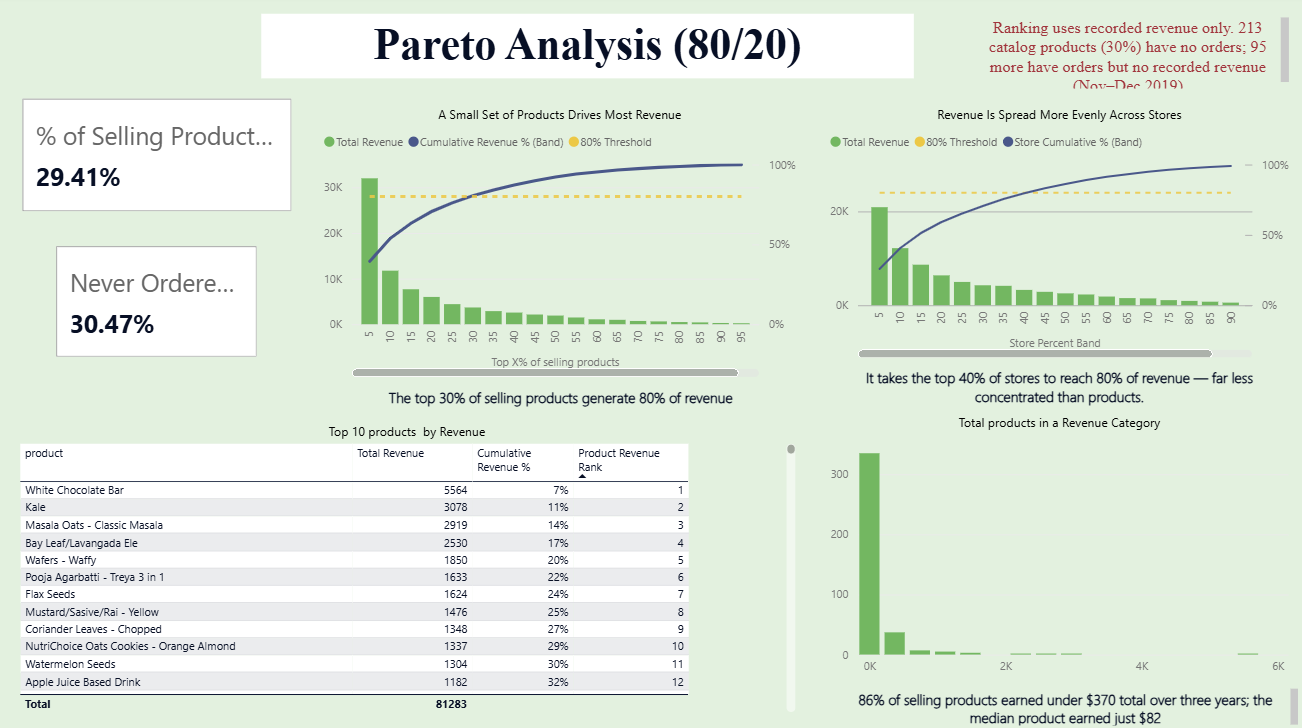

The dashboard page shown, as its layout file describes it:
{"tool":"powerbi","page":{"name":"Pareto(80/20)","canvas":[1280,720],"ordinal":4},"visuals":[{"type":"textbox","box":[260.7,17.8,638.1,63.1],"z":0},{"type":"lineClusteredColumnComboChart","title":"A Small Set of Products Drives Most Revenue","fields":{"Y":["Sales.Total Revenue"],"Y2":["Sales.Cumulative Revenue % (Band)","Products.80% Threshold"],"Category":["Products.Product Percent Band"]},"box":[316.8,109,471.7,269.5],"z":1000},{"type":"cardVisual","fields":{"Data":["Sales.% of Products to 80%"]},"box":[21.5,96.1,273.8,120.4],"z":2000},{"type":"tableEx","title":"Top 10 products  by Revenue","fields":{"Values":["Products.product","Sales.Total Revenue","Sales.Cumulative Revenue %","Products.Product Revenue Rank"]},"box":[18.8,418.1,769.6,287.9],"z":3000},{"type":"lineStackedColumnComboChart","title":"Revenue Is Spread More Evenly Across Stores","fields":{"Y":["Sales.Total Revenue"],"Y2":["Products.80% Threshold","Sales.Store Cumulative % (Band)"],"Category":["Stores.Store Percent Band"]},"box":[811.5,109,458.8,250.9],"z":4000},{"type":"clusteredColumnChart","title":" Total products in a Revenue Category","fields":{"Category":["Products.ProductRevenue (bins)"],"Y":["CountNonNull(Products.product_id)"]},"box":[811.5,410,458.8,263.8],"z":5000},{"type":"cardVisual","fields":{"Data":["Products.Never Ordered %"]},"box":[54.5,240.9,206.5,119],"z":6000},{"type":"textbox","box":[953.3,17.4,316.8,79.6],"z":7000},{"type":"textbox","box":[811.5,359.9,458.8,58.8],"z":8000},{"type":"textbox","box":[324,378.5,458.8,30.1],"z":9000},{"type":"textbox","box":[821.5,673.8,458.8,45.9],"z":10000}]}

Visuals, with their boxes in screenshot pixels (x1, y1, x2, y2), scaled from the page's 1280x720 canvas onto the 1302x728 screenshot:
textbox: BBox(265, 18, 914, 82)
"A Small Set of Products Drives Most Revenue" lineClusteredColumnComboChart: BBox(322, 110, 802, 383)
cardVisual - Sales.% of Products to 80%: BBox(22, 97, 300, 219)
"Top 10 products  by Revenue" tableEx: BBox(19, 423, 802, 714)
"Revenue Is Spread More Evenly Across Stores" lineStackedColumnComboChart: BBox(825, 110, 1292, 364)
" Total products in a Revenue Category" clusteredColumnChart: BBox(825, 415, 1292, 681)
cardVisual - Products.Never Ordered %: BBox(55, 244, 265, 364)
textbox: BBox(970, 18, 1292, 98)
textbox: BBox(825, 364, 1292, 423)
textbox: BBox(330, 383, 796, 413)
textbox: BBox(836, 681, 1301, 727)
